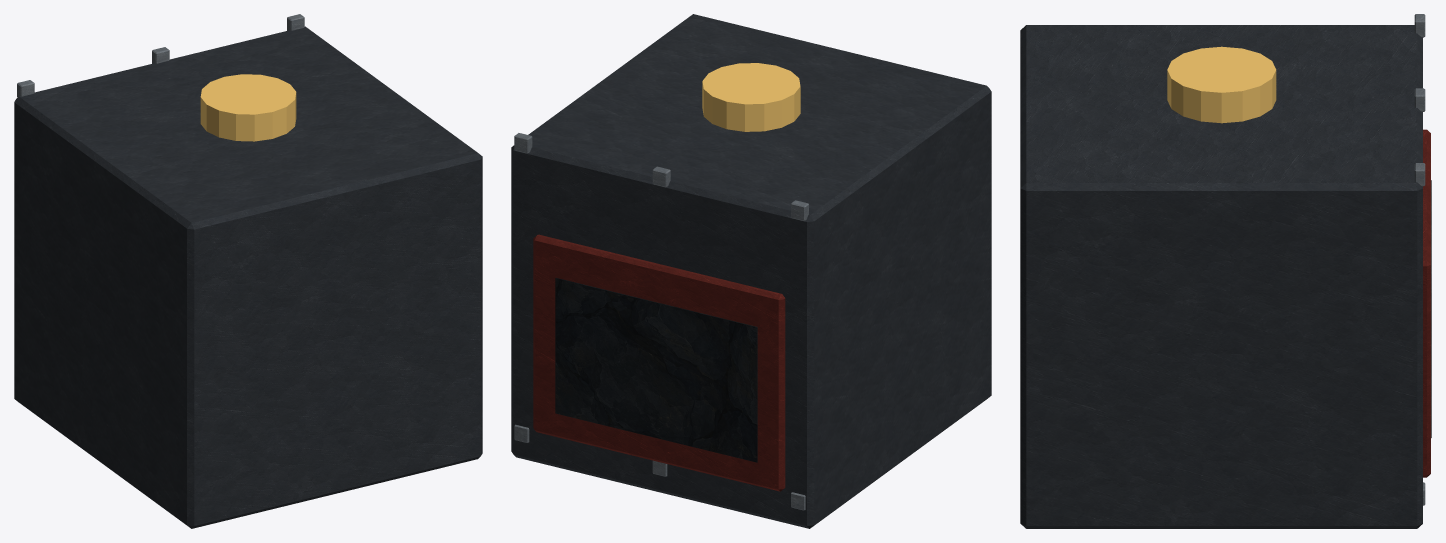
Rendered from train_fuel_engine.gltf.
3 views of the same model, side by side, from view 1: azimuth 30°, elevation 25°; view 2: azimuth 150°, elevation 25°; view 3: azimuth 270°, elevation 25° (orthographic). The views are drawn at different scales.
Size of the model in its own units: 0.92 by 1 by 0.98.
6 materials, 5 textured.
